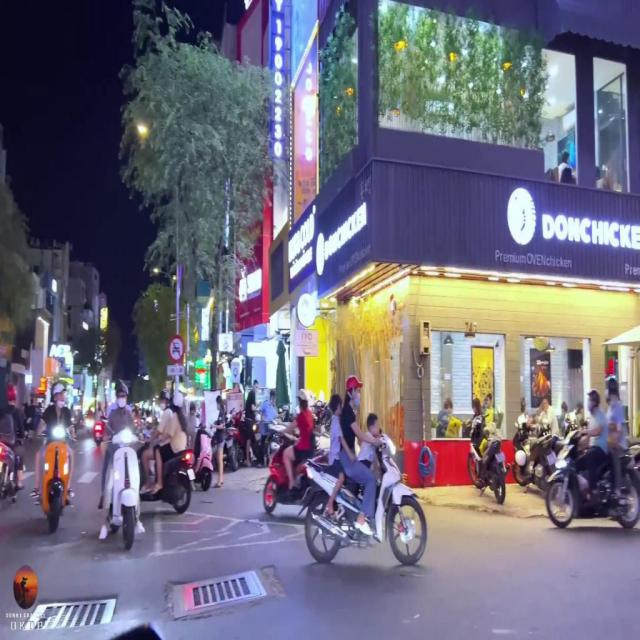cam_o_to: (168, 333, 186, 365)
khac: (164, 365, 185, 376)
